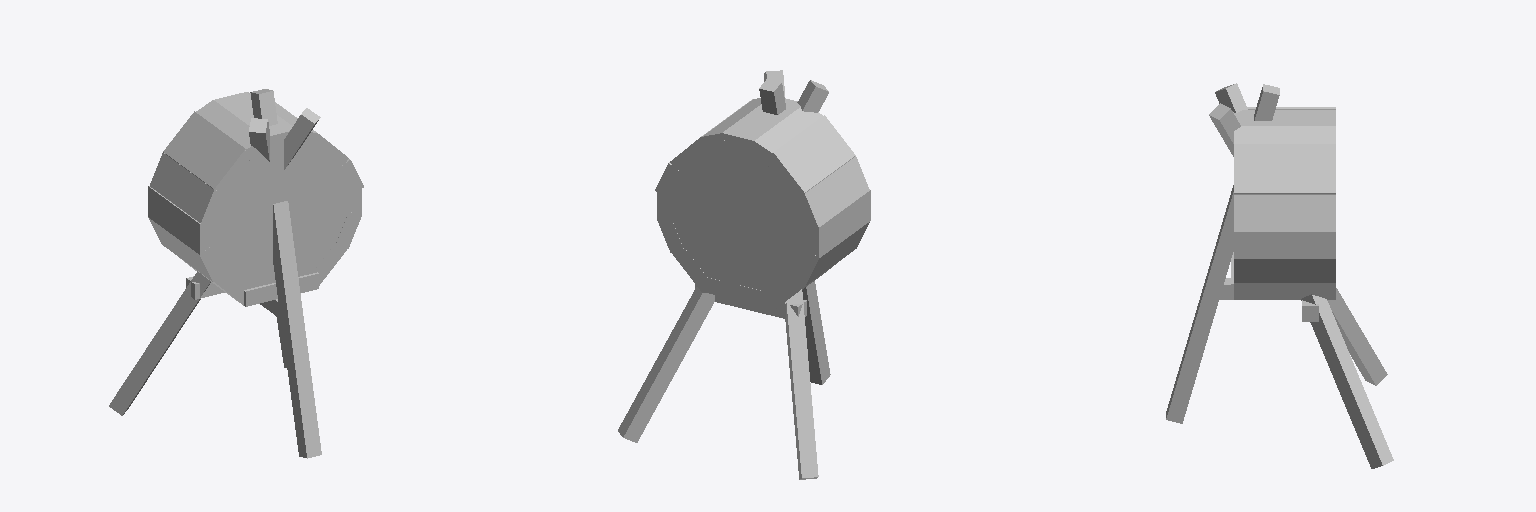
Rendered from target.obj.
The picture shows the model from 3 angles: view 1: azimuth 30°, elevation 25°; view 2: azimuth 150°, elevation 25°; view 3: azimuth 270°, elevation 25°; orthographic projection.
Parts seen in each view (by area): view 1: cube, hexadecagon; view 2: cube, hexadecagon; view 3: cube, hexadecagon.
Part boxes in pixels (x1,y1,x2,y2): cube: (109,89,363,458); hexadecagon: (196,92,317,162); cube: (618,70,870,479); hexadecagon: (701,98,822,166); cube: (1166,83,1393,468); hexadecagon: (1233,109,1335,143).
Bounding box in the file's own units: 0.8381 × 1.37 × 0.8343.